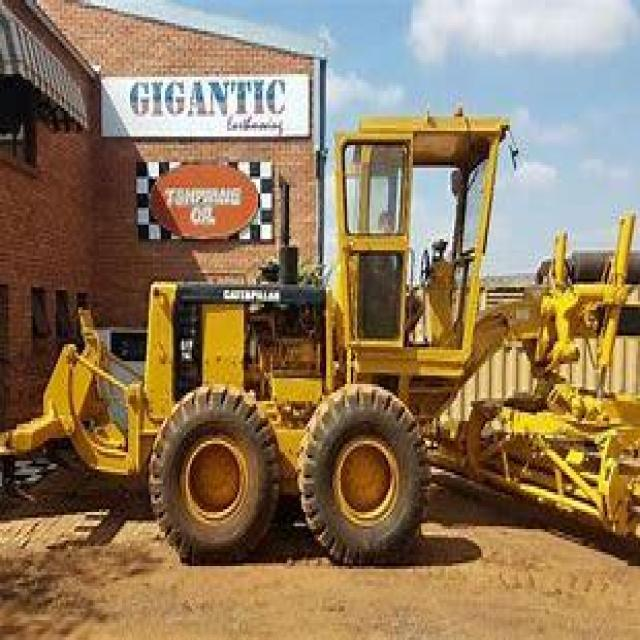Grader: (39, 94, 638, 580)
